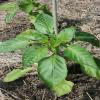Tomato leaf: (17, 25, 68, 44), (48, 41, 84, 66), (47, 10, 83, 32), (70, 0, 94, 25), (27, 1, 52, 24), (86, 39, 100, 51), (97, 22, 100, 37)
